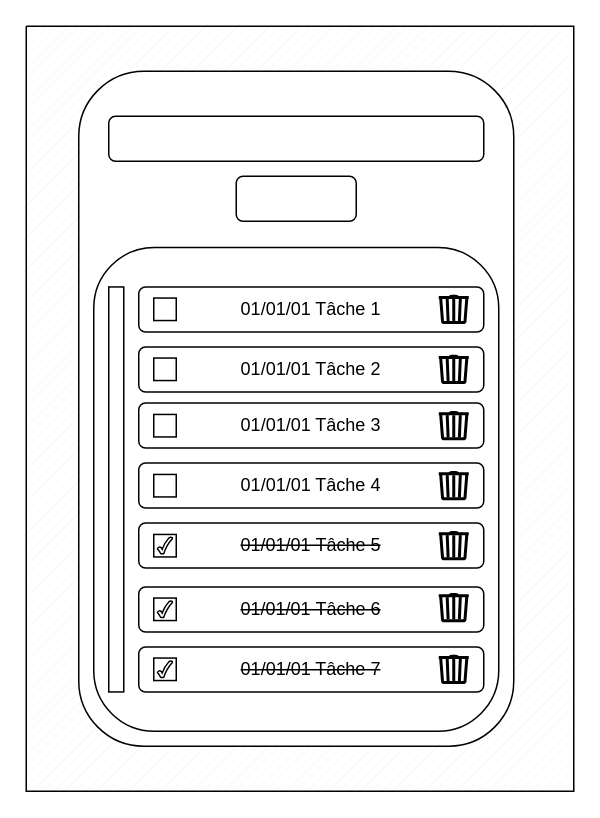
This 600x818 diagram has some shape labels left out. Each missing label, with the box of its shape:
ENTREZ UNE TÂCHE: (107, 115, 484, 161)
Valider: (235, 175, 356, 221)
